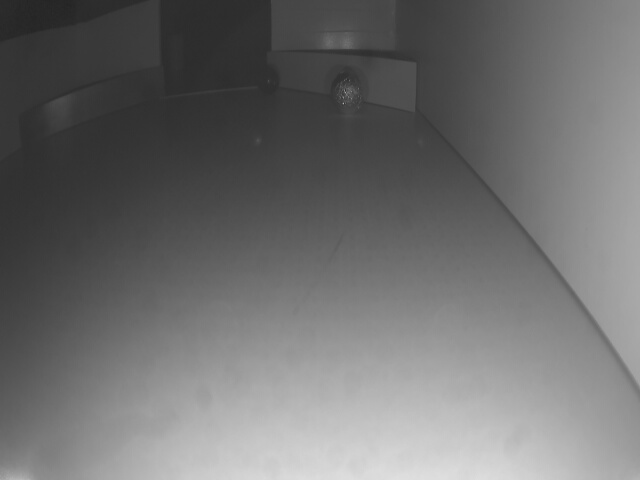Dead: (255, 67, 283, 94)
Green: (19, 67, 163, 149)
Live: (330, 72, 362, 115)
Red: (264, 51, 417, 114)
